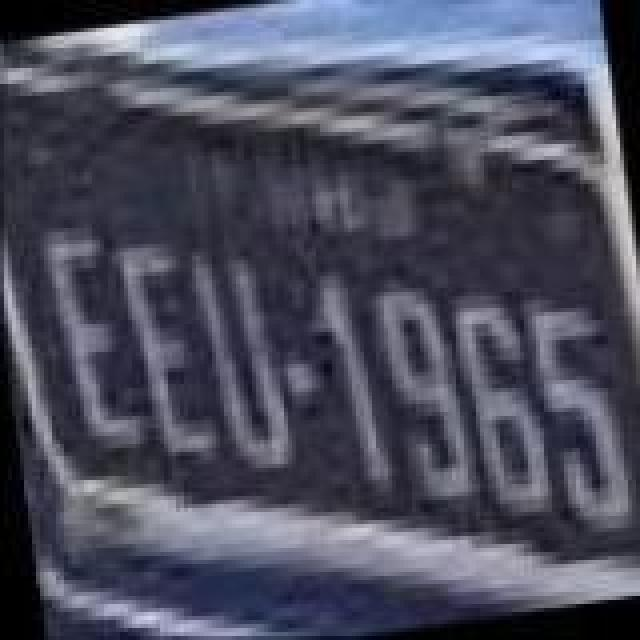1: (302, 260, 398, 504)
5: (524, 296, 640, 544)
6: (450, 298, 562, 530)
9: (370, 274, 482, 514)
E: (34, 226, 146, 462), (112, 230, 220, 474)
U: (186, 240, 298, 484)
